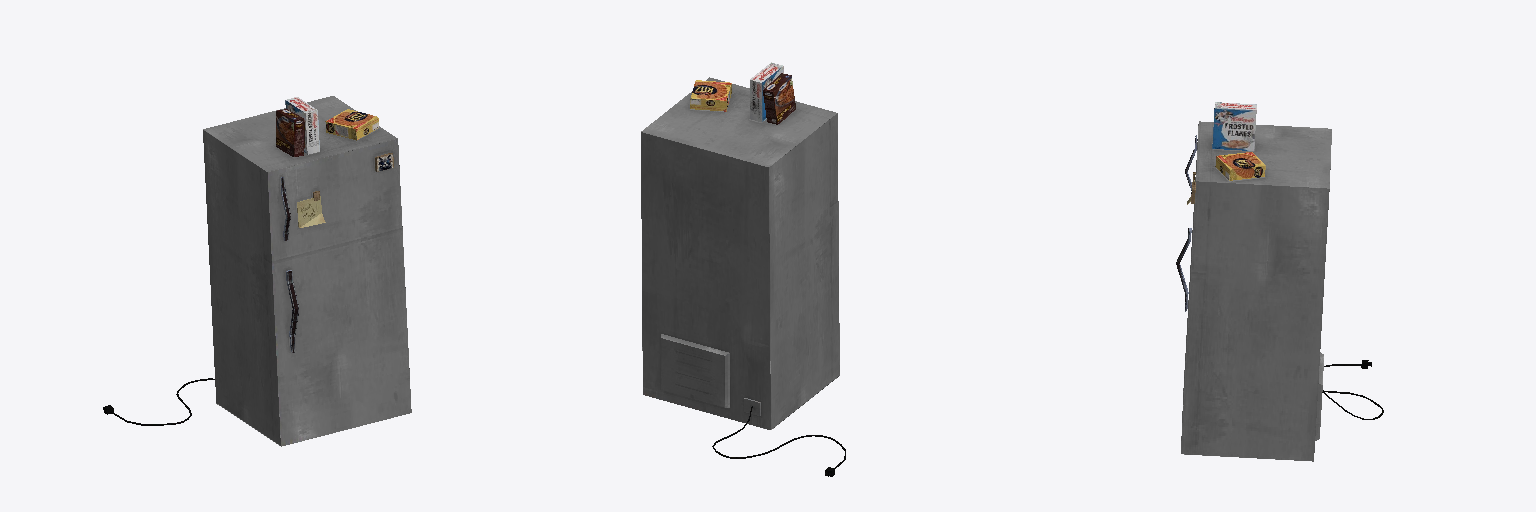
The picture shows the model from 3 angles: view 1: azimuth 30°, elevation 25°; view 2: azimuth 150°, elevation 25°; view 3: azimuth 270°, elevation 25°; orthographic projection.
Parts seen in each view (by area): view 1: defaultMaterial.007_defaultMaterial.012_lambert7; view 2: defaultMaterial.007_defaultMaterial.012_lambert7; view 3: defaultMaterial.007_defaultMaterial.012_lambert7.
Boxes of the visible parts, x1=… form: defaultMaterial.007_defaultMaterial.012_lambert7: x1=103, y1=96, x2=411, y2=446; defaultMaterial.007_defaultMaterial.012_lambert7: x1=641, y1=62, x2=845, y2=476; defaultMaterial.007_defaultMaterial.012_lambert7: x1=1176, y1=102, x2=1383, y2=461.
Size of the model in its own units: 1.44 by 2.07 by 1.2.
1 materials, 1 textured.